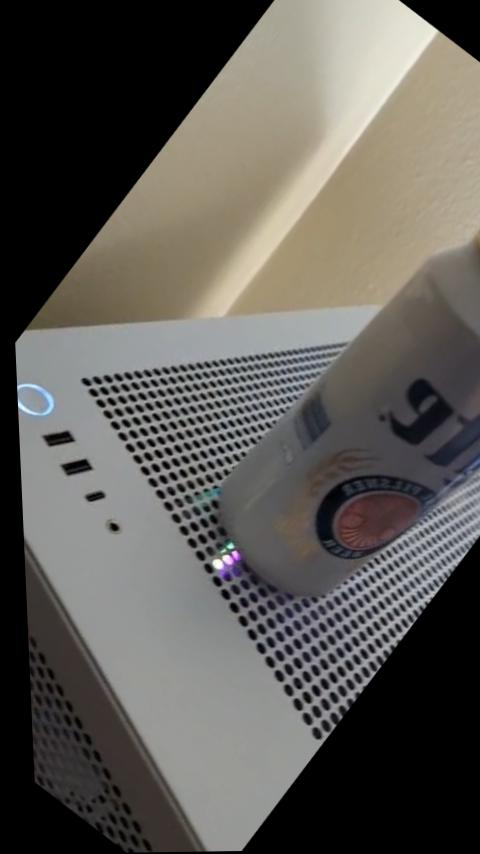metal: (220, 241, 479, 592)
